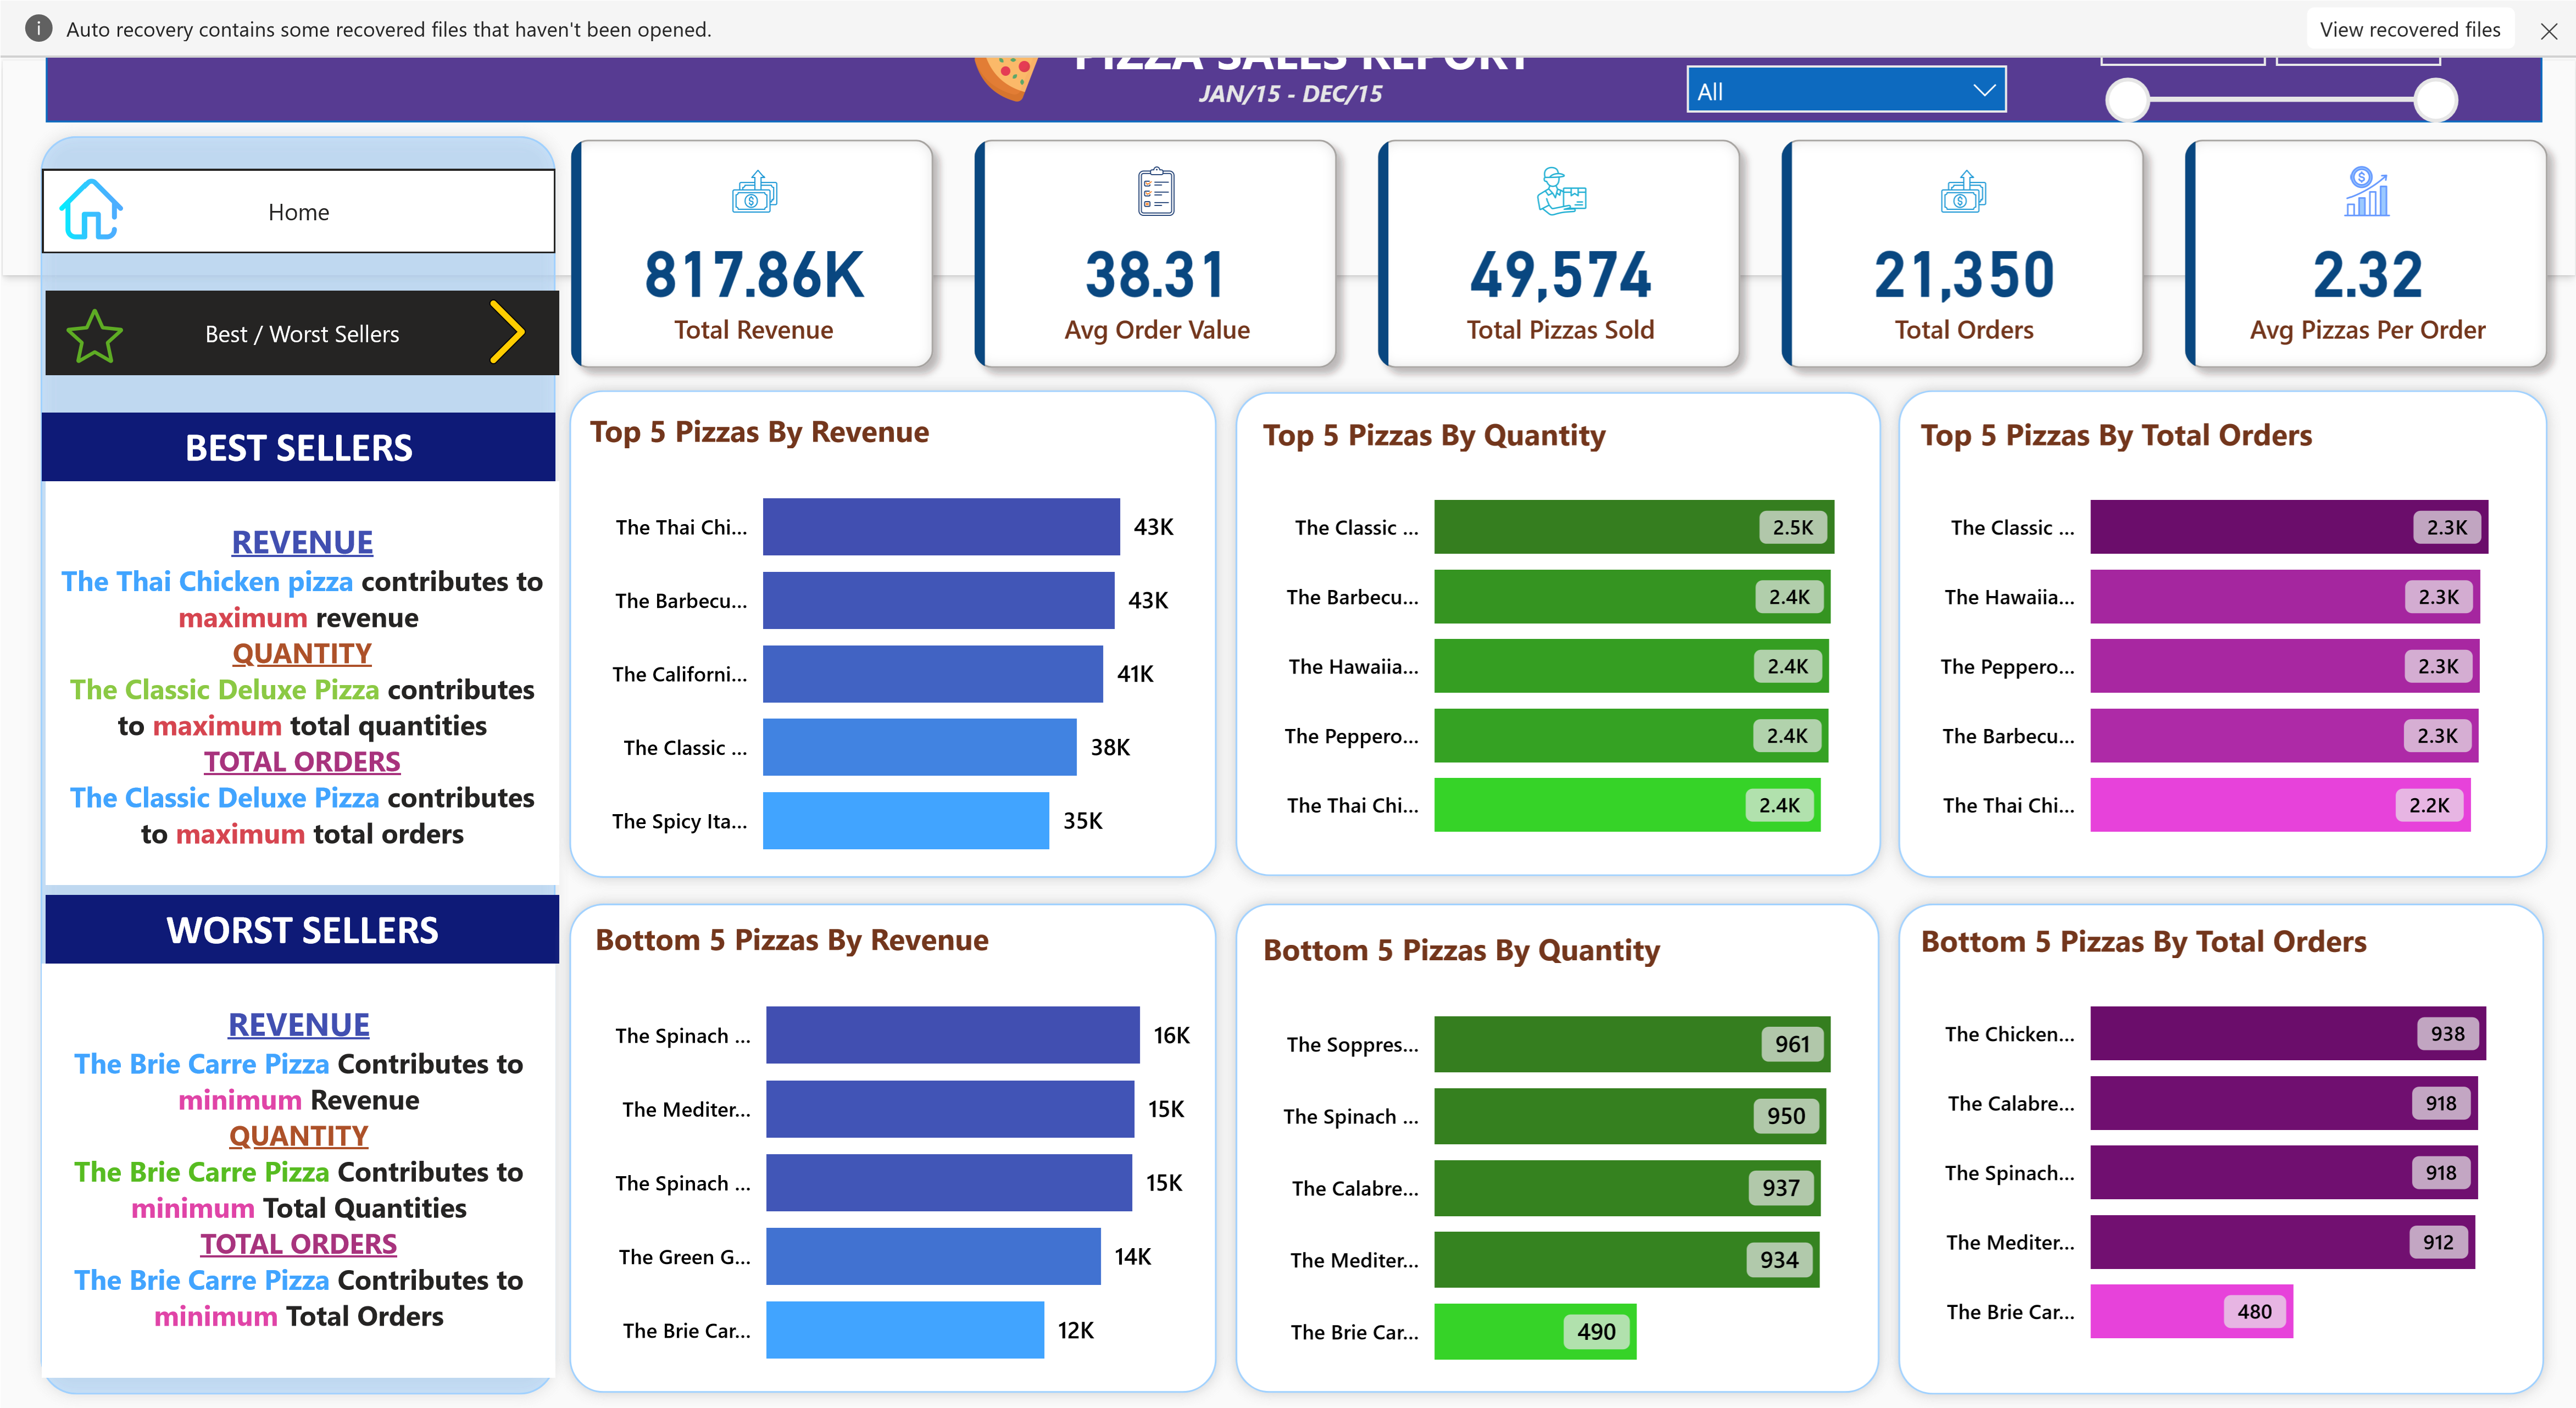

This screenshot's page, from the dashboard's own definition file:
{"tool":"powerbi","page":{"name":"Best / Worst Sellers","canvas":[1500,820],"ordinal":1},"visuals":[{"type":"shape","box":[15.3,71,316.1,749.3],"z":0},{"type":"cardVisual","fields":{"Data":["pizza_sales.Total Revenue","pizza_sales.Avg Order Value","pizza_sales.Total Pizzas Sold","pizza_sales.Total Orders","pizza_sales.Avg Pizzas Per Order"]},"box":[314.7,64.1,1185.2,167.1],"z":1000},{"type":"shape","box":[26.5,5.6,1453.9,65.5],"z":2000},{"type":"textbox","box":[608.6,5.6,299.4,46],"z":3000},{"type":"textbox","box":[676.8,40.4,149,30.6],"z":4000},{"type":"image","box":[551.5,11.1,73.8,54.3],"z":5000},{"type":"shape","box":[323.2,218.7,392.4,300],"z":6000},{"type":"textbox","box":[24.1,239.6,299.1,40.2],"z":7000},{"type":"textbox","box":[25.7,279.8,299.1,234.8],"z":8000},{"type":"textbox","box":[25.7,521,299.1,40.2],"z":9000},{"type":"textbox","box":[24.1,561.2,299.1,241.2],"z":10000},{"type":"slicer","fields":{"Values":["pizza_sales.pizza_category"]},"box":[972.1,5.6,206.1,65.5],"z":11000},{"type":"slicer","fields":{"Values":["pizza_sales.order_date"]},"box":[1210.2,0,228.4,71],"z":12000},{"type":"shape","box":[1096.7,218.7,394,300],"z":13000},{"type":"shape","box":[710.8,220.3,392.4,298],"z":14000},{"type":"shape","box":[323.2,517.8,392.4,300.7],"z":15000},{"type":"shape","box":[1096.7,517.8,392.4,302.3],"z":16000},{"type":"shape","box":[710.8,517.8,390.8,300.7],"z":17000},{"type":"barChart","title":"Top 5 Pizzas By Revenue","fields":{"Category":["pizza_sales.pizza_name"],"Y":["pizza_sales.Total Revenue"]},"box":[337.7,238,373.1,279.8],"z":18000},{"type":"barChart","title":"Bottom 5 Pizzas By Revenue","fields":{"Category":["pizza_sales.pizza_name"],"Y":["pizza_sales.Total Revenue"]},"box":[340.9,533.9,369.9,281.4],"z":19000},{"type":"barChart","title":"Top 5 Pizzas By Quantity","fields":{"Category":["pizza_sales.pizza_name"],"Y":["pizza_sales.Total Pizzas Sold"]},"box":[730.1,239.6,366.6,266.9],"z":20000},{"type":"barChart","title":"Bottom 5 Pizzas By Quantity","fields":{"Category":["pizza_sales.pizza_name"],"Y":["pizza_sales.Total Pizzas Sold"]},"box":[730.1,540.3,366.6,275],"z":21000},{"type":"barChart","title":"Top 5 Pizzas By Total Orders","fields":{"Category":["pizza_sales.pizza_name"],"Y":["pizza_sales.Total Orders"]},"box":[1112.8,239.6,366.6,266.9],"z":22000},{"type":"barChart","title":"Bottom 5 Pizzas By Total Orders","fields":{"Category":["pizza_sales.pizza_name"],"Y":["pizza_sales.Total Orders"]},"box":[1112.8,535.5,366.6,266.9],"z":23000},{"type":"pageNavigator","box":[25.7,168.8,299.1,49.9],"z":24000},{"type":"pageNavigator","box":[24.1,98.1,299.1,49.9],"z":25000},{"type":"image","box":[265.3,168.8,59.5,48.2],"z":26000},{"type":"image","box":[25.7,98.1,53.1,46.6],"z":27000},{"type":"image","box":[25.7,173.7,56.3,43.4],"z":27001}]}

Visuals, with their boxes on the page's 1500x820 design canvas (x1, y1, x2, y2). These are canvas units, not pixel positions in the 2576x1408 screenshot, which may show the page scaled, cropped or inside an application window:
shape: [15,71,331,820]
cardVisual - pizza_sales.Total Revenue x pizza_sales.Avg Order Value: [315,64,1500,231]
shape: [26,6,1480,71]
textbox: [609,6,908,52]
textbox: [677,40,826,71]
image: [552,11,625,65]
shape: [323,219,716,519]
textbox: [24,240,323,280]
textbox: [26,280,325,515]
textbox: [26,521,325,561]
textbox: [24,561,323,802]
slicer - pizza_sales.pizza_category: [972,6,1178,71]
slicer - pizza_sales.order_date: [1210,0,1439,71]
shape: [1097,219,1491,519]
shape: [711,220,1103,518]
shape: [323,518,716,818]
shape: [1097,518,1489,820]
shape: [711,518,1102,818]
"Top 5 Pizzas By Revenue" barChart: [338,238,711,518]
"Bottom 5 Pizzas By Revenue" barChart: [341,534,711,815]
"Top 5 Pizzas By Quantity" barChart: [730,240,1097,506]
"Bottom 5 Pizzas By Quantity" barChart: [730,540,1097,815]
"Top 5 Pizzas By Total Orders" barChart: [1113,240,1479,506]
"Bottom 5 Pizzas By Total Orders" barChart: [1113,536,1479,802]
pageNavigator: [26,169,325,219]
pageNavigator: [24,98,323,148]
image: [265,169,325,217]
image: [26,98,79,145]
image: [26,174,82,217]
